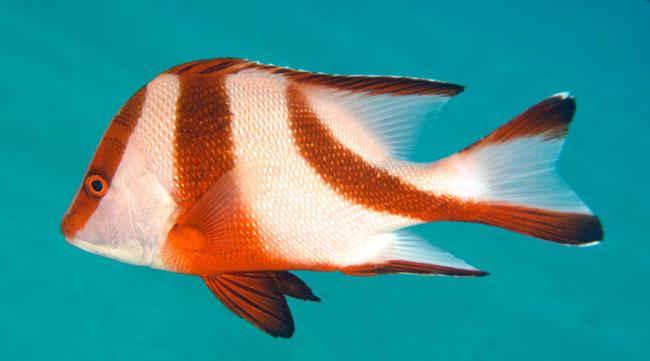fish: (60, 56, 606, 340)
